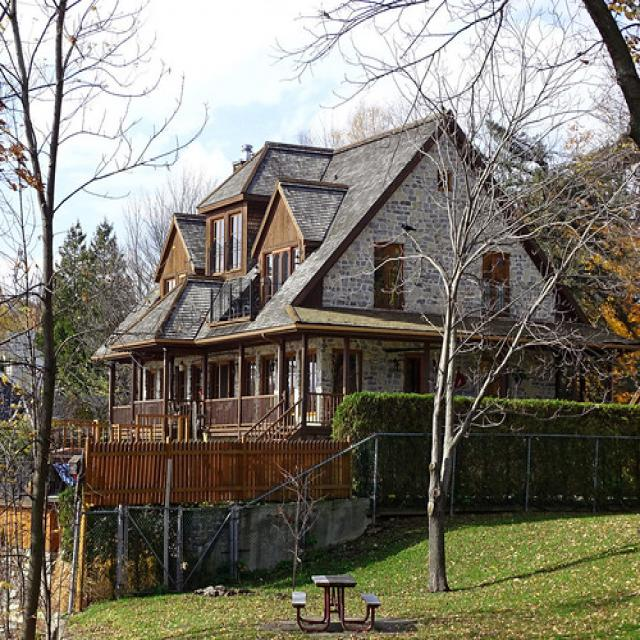Normal_building: (77, 106, 616, 565)
